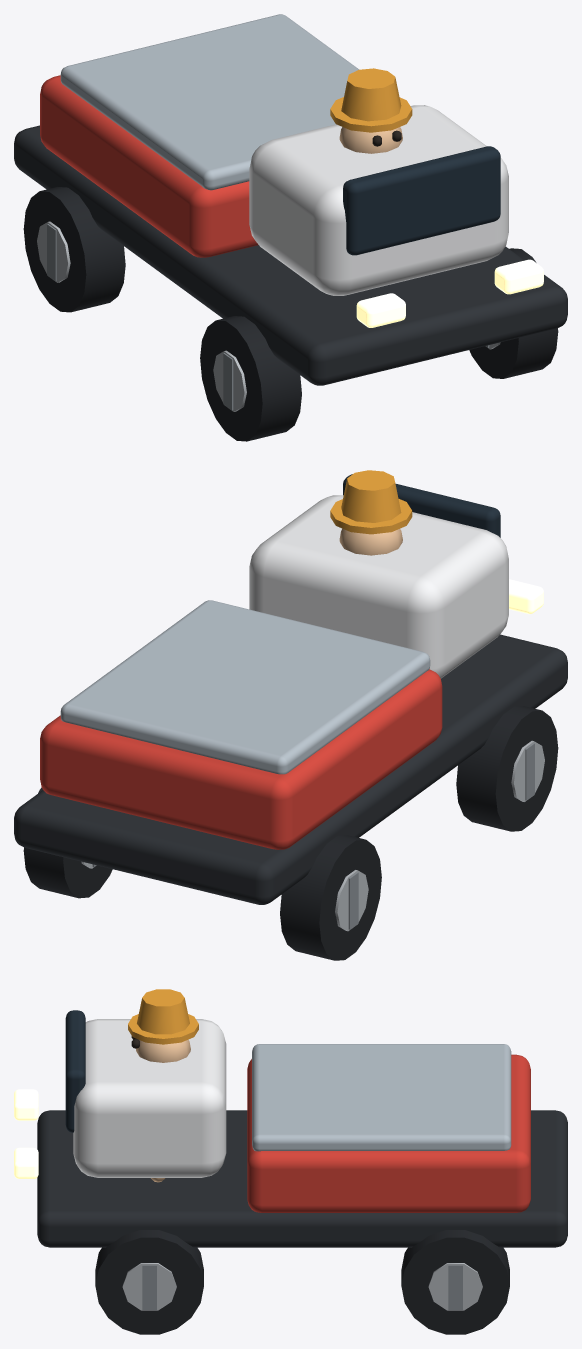
File: cart.glb
The picture shows the model from 3 angles, top to bottom: view 1: azimuth 30°, elevation 25°; view 2: azimuth 150°, elevation 25°; view 3: azimuth 270°, elevation 25°; orthographic projection. The views are drawn at different scales.
Bounding box in the file's own units: 1.23 × 1.23 × 2.25.
